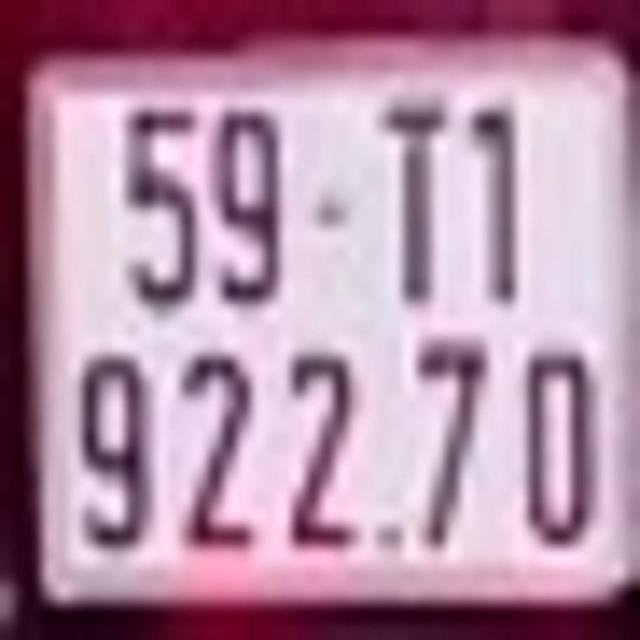0: (511, 337, 596, 546)
1: (464, 100, 524, 306)
2: (175, 346, 267, 553), (276, 337, 363, 554)
5: (118, 106, 196, 312)
7: (396, 332, 496, 554)
9: (206, 101, 296, 318), (72, 338, 156, 551)
T: (373, 97, 455, 306)
